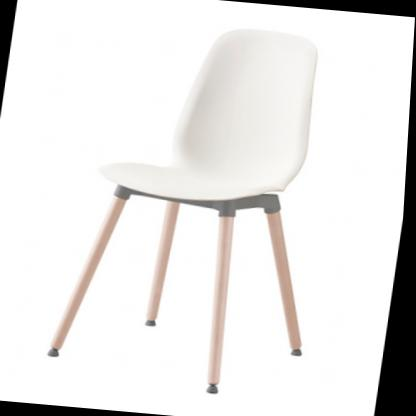Chair: (46, 10, 354, 401)
